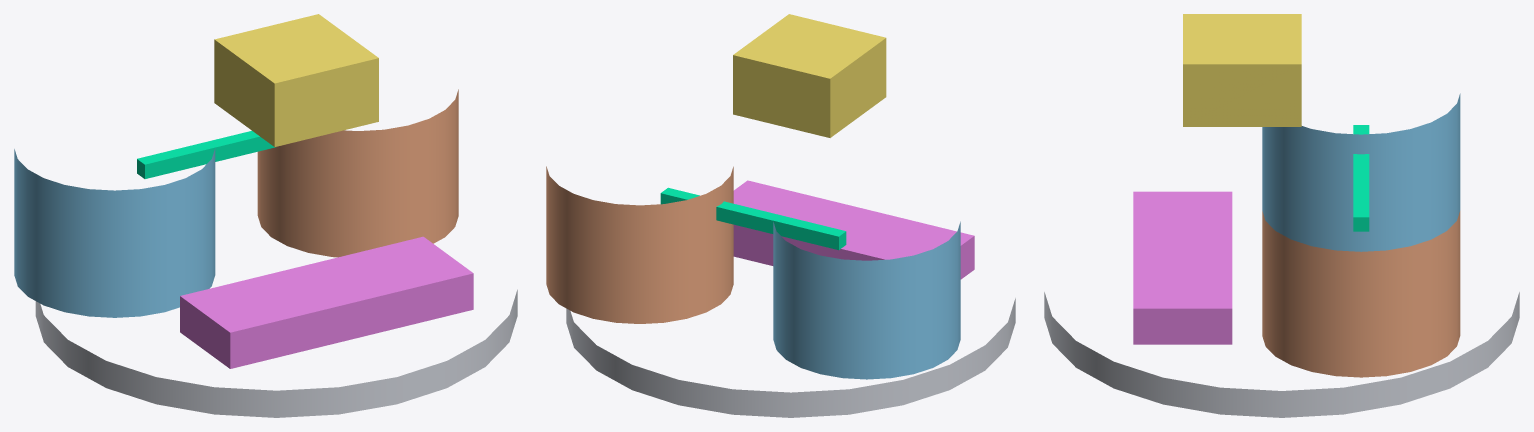
File: rdbms_sql_database.glb
3 views of the same model, side by side, from view 1: azimuth 30°, elevation 25°; view 2: azimuth 150°, elevation 25°; view 3: azimuth 270°, elevation 25° (orthographic). The views are drawn at different scales.
Parts seen in each view (by area): view 1: TableCylinder1, TableCylinder2, TransactionWALBuffer, BTreeIndexRoot, StorageDiskPlatter, ForeignKeyLinkBar; view 2: TableCylinder1, TableCylinder2, BTreeIndexRoot, StorageDiskPlatter, TransactionWALBuffer, ForeignKeyLinkBar; view 3: TableCylinder2, TableCylinder1, TransactionWALBuffer, BTreeIndexRoot, StorageDiskPlatter, ForeignKeyLinkBar.
Part boxes in pixels (bbox=[...]): TableCylinder1: bbox=[14, 148, 215, 317]; TableCylinder2: bbox=[257, 89, 458, 257]; TransactionWALBuffer: bbox=[180, 236, 473, 368]; BTreeIndexRoot: bbox=[214, 14, 378, 146]; StorageDiskPlatter: bbox=[35, 289, 517, 417]; ForeignKeyLinkBar: bbox=[137, 131, 275, 178]; TableCylinder1: bbox=[773, 221, 960, 379]; TableCylinder2: bbox=[546, 166, 733, 323]; BTreeIndexRoot: bbox=[733, 14, 886, 137]; StorageDiskPlatter: bbox=[566, 298, 1015, 417]; TransactionWALBuffer: bbox=[733, 180, 974, 279]; ForeignKeyLinkBar: bbox=[660, 187, 846, 250]; TableCylinder2: bbox=[1262, 211, 1460, 377]; TableCylinder1: bbox=[1262, 93, 1460, 251]; TransactionWALBuffer: bbox=[1133, 191, 1232, 344]; BTreeIndexRoot: bbox=[1183, 14, 1301, 126]; StorageDiskPlatter: bbox=[1044, 292, 1519, 417]; ForeignKeyLinkBar: bbox=[1353, 125, 1369, 231].
Bounding box in the file's own units: 2.4 × 1.55 × 2.4.
